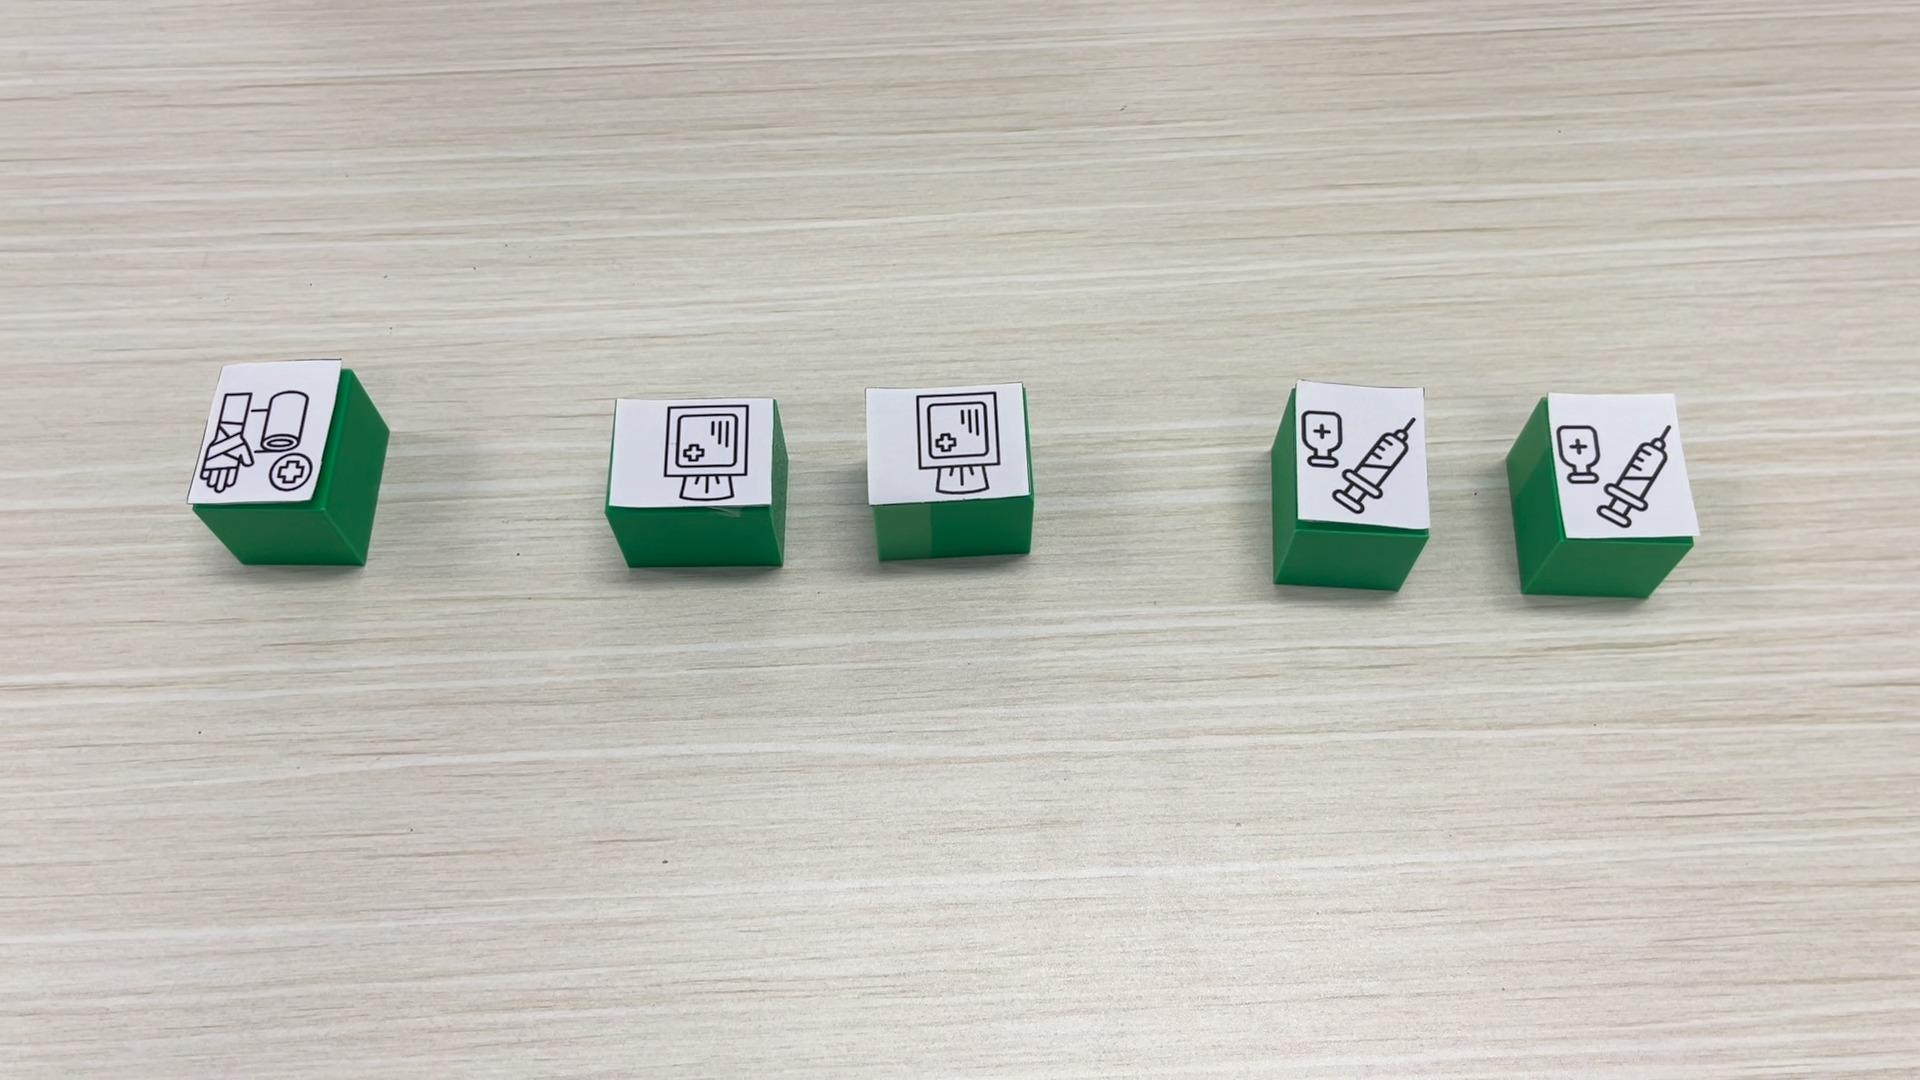Bandages: (189, 357, 389, 566)
Gauze: (604, 396, 789, 568), (862, 380, 1034, 560)
antiseptic cream: (1503, 389, 1698, 599), (1267, 381, 1429, 593)
